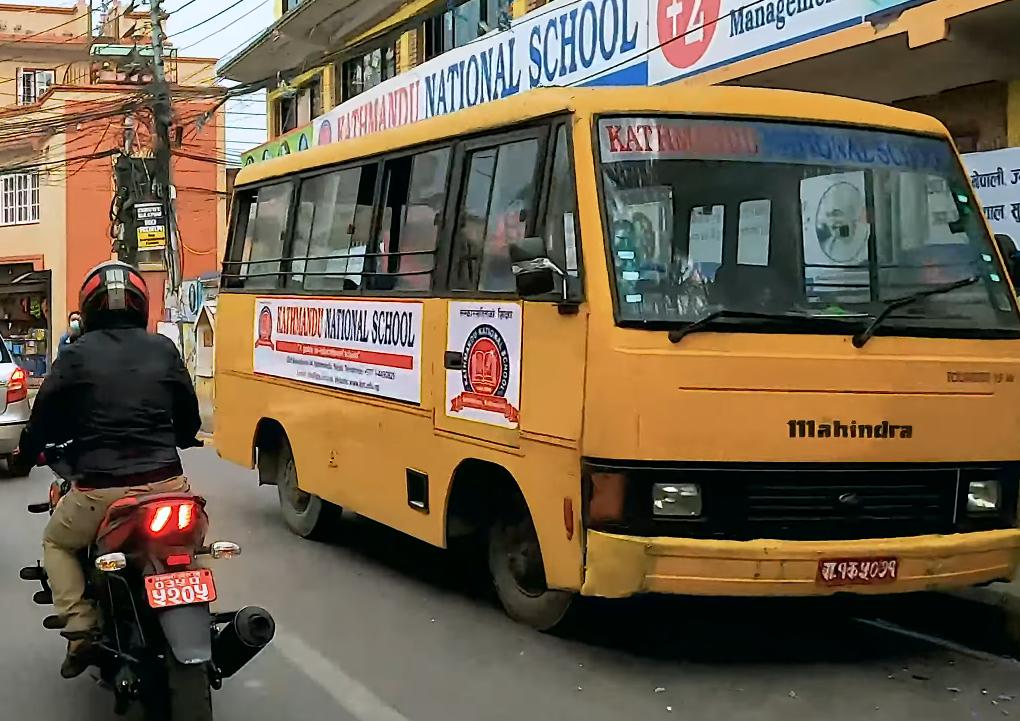bike: (6, 416, 274, 721)
school_bus: (206, 74, 1020, 644)
